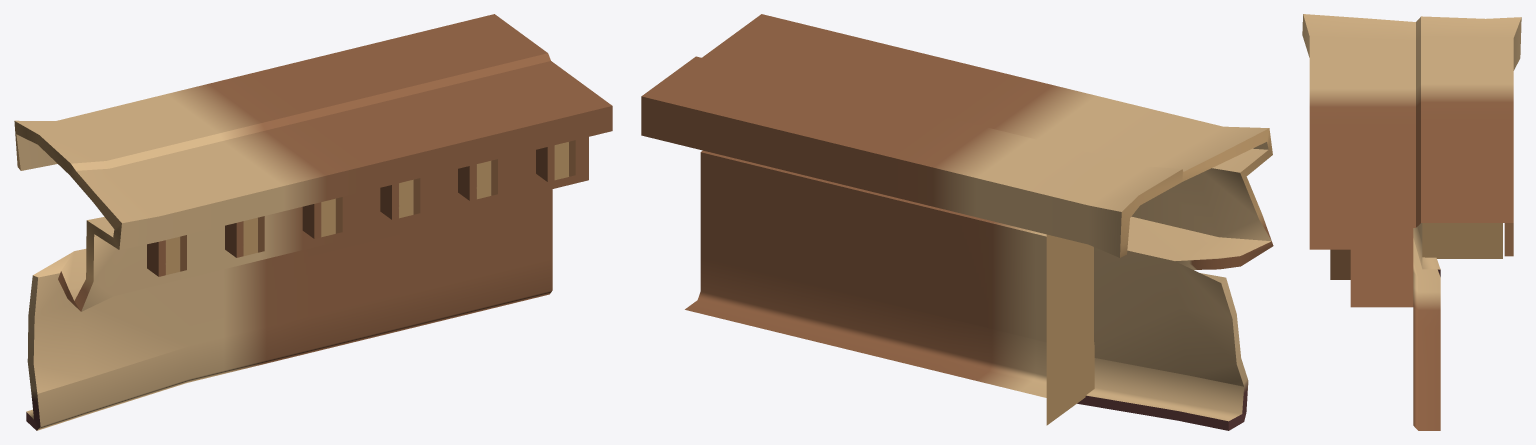
The model's file is DBK_Cornice_A_End_Mirror.fbx.
The picture shows the model from 3 angles, left to right: view 1: azimuth 30°, elevation 25°; view 2: azimuth 150°, elevation 25°; view 3: azimuth 270°, elevation 25°; orthographic projection. The views are drawn at different scales.
Parts seen in each view (by area): view 1: DBK_Cornice_A_End_Mirror; view 2: DBK_Cornice_A_End_Mirror; view 3: DBK_Cornice_A_End_Mirror.
Part boxes in pixels (x1,y1,x2,y2): DBK_Cornice_A_End_Mirror: (14, 14, 612, 430); DBK_Cornice_A_End_Mirror: (641, 14, 1273, 430); DBK_Cornice_A_End_Mirror: (1302, 14, 1521, 430).
Bounding box in the file's own units: 145 × 64.81 × 60.47.
